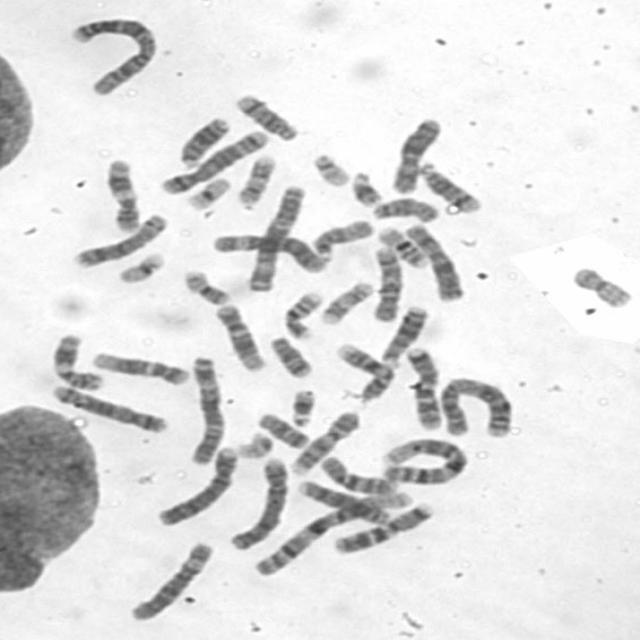A1: (246, 485, 418, 579), (376, 433, 472, 486)
A2: (64, 12, 160, 97), (433, 372, 517, 439)
A3: (241, 180, 310, 294), (184, 351, 228, 465)
B4: (150, 441, 241, 527), (224, 451, 292, 551)
B5: (155, 124, 271, 196), (46, 379, 172, 435)
C10: (316, 451, 402, 496), (367, 242, 406, 324)
C11: (46, 328, 106, 392), (100, 154, 144, 234)
C12: (87, 346, 193, 386), (210, 300, 268, 372)
C6: (123, 536, 217, 623), (207, 228, 332, 274)
C7: (328, 497, 438, 555), (400, 342, 444, 432)
C8: (68, 208, 171, 269), (293, 475, 396, 526)
C9: (285, 406, 363, 476), (331, 338, 398, 402)
D13: (374, 300, 432, 367), (173, 110, 233, 168)
D14: (414, 157, 485, 214), (230, 88, 300, 142)
D15: (306, 214, 376, 258), (366, 192, 441, 224)
E16: (373, 222, 431, 270), (278, 286, 326, 341)
E17: (316, 276, 376, 326), (233, 150, 279, 207)
E18: (252, 406, 313, 450), (264, 330, 316, 379)
F19: (113, 247, 169, 285), (182, 172, 233, 211)
F20: (566, 261, 636, 310), (178, 264, 234, 306)
G21: (346, 166, 384, 207), (285, 384, 320, 428)
G22: (307, 148, 354, 188), (232, 428, 276, 459)
X: (400, 217, 468, 303), (384, 112, 444, 196)
